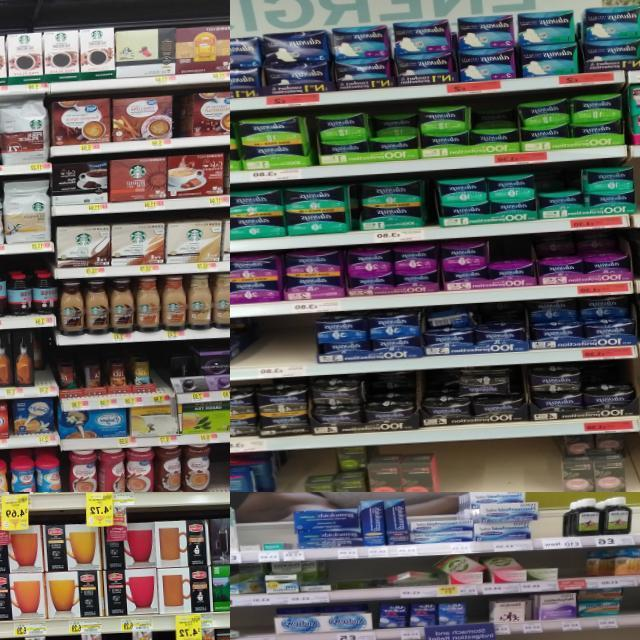Imprecise: (537, 226, 638, 282), (364, 106, 416, 164), (362, 372, 414, 426), (31, 330, 58, 385)
